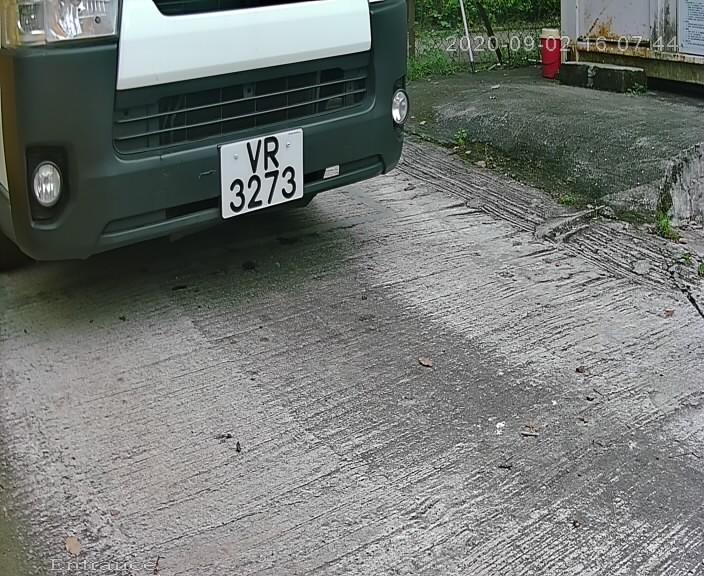License Plate: (211, 124, 318, 227)
